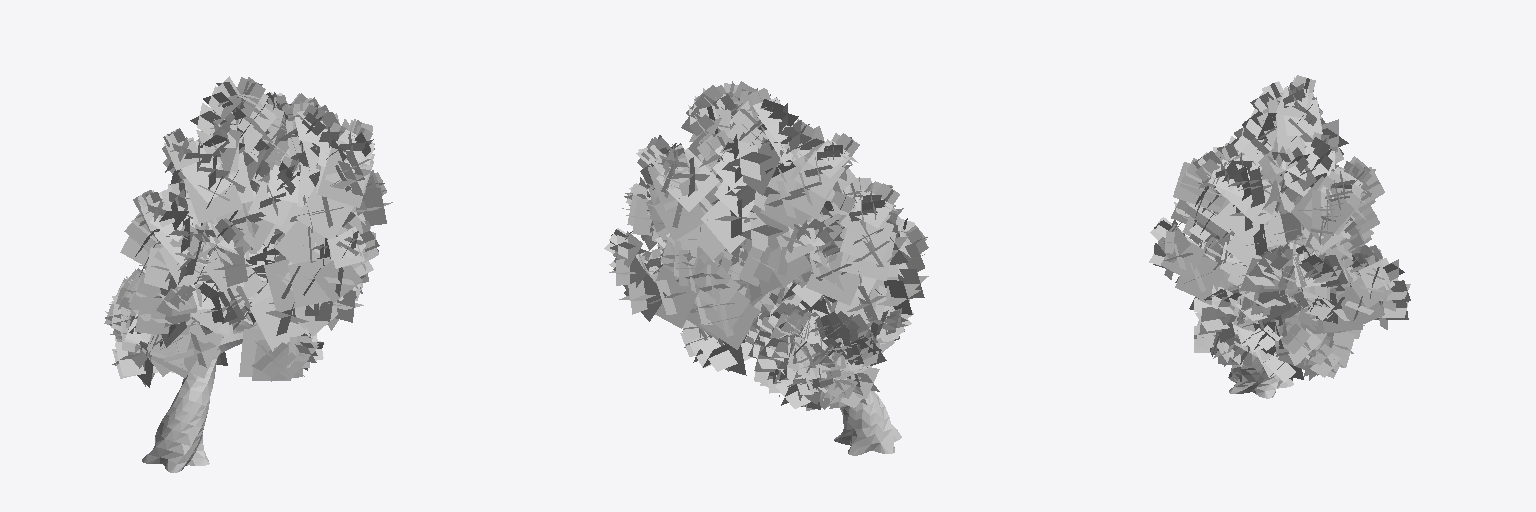
The model's file is TwistedTree_1.obj.
3 renders of one model, left to right at view 1: azimuth 30°, elevation 25°; view 2: azimuth 150°, elevation 25°; view 3: azimuth 270°, elevation 25°, orthographic.
Parts seen in each view (by area): view 1: TwistedTree_1; view 2: TwistedTree_1; view 3: TwistedTree_1.
Boxes of the visible parts, box(x1,y1,x2,y2) form: TwistedTree_1: box(104, 76, 392, 472); TwistedTree_1: box(604, 81, 928, 455); TwistedTree_1: box(1149, 75, 1410, 398).
Size of the model in its own units: 13.52 by 16.73 by 11.55.